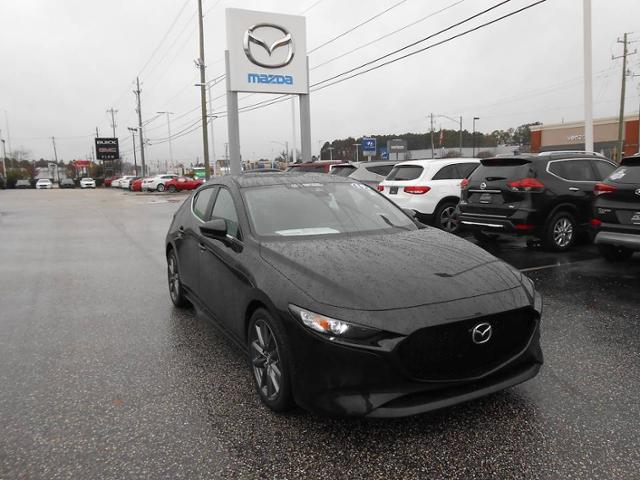Mazda3 Hatchback: (164, 166, 546, 431)
